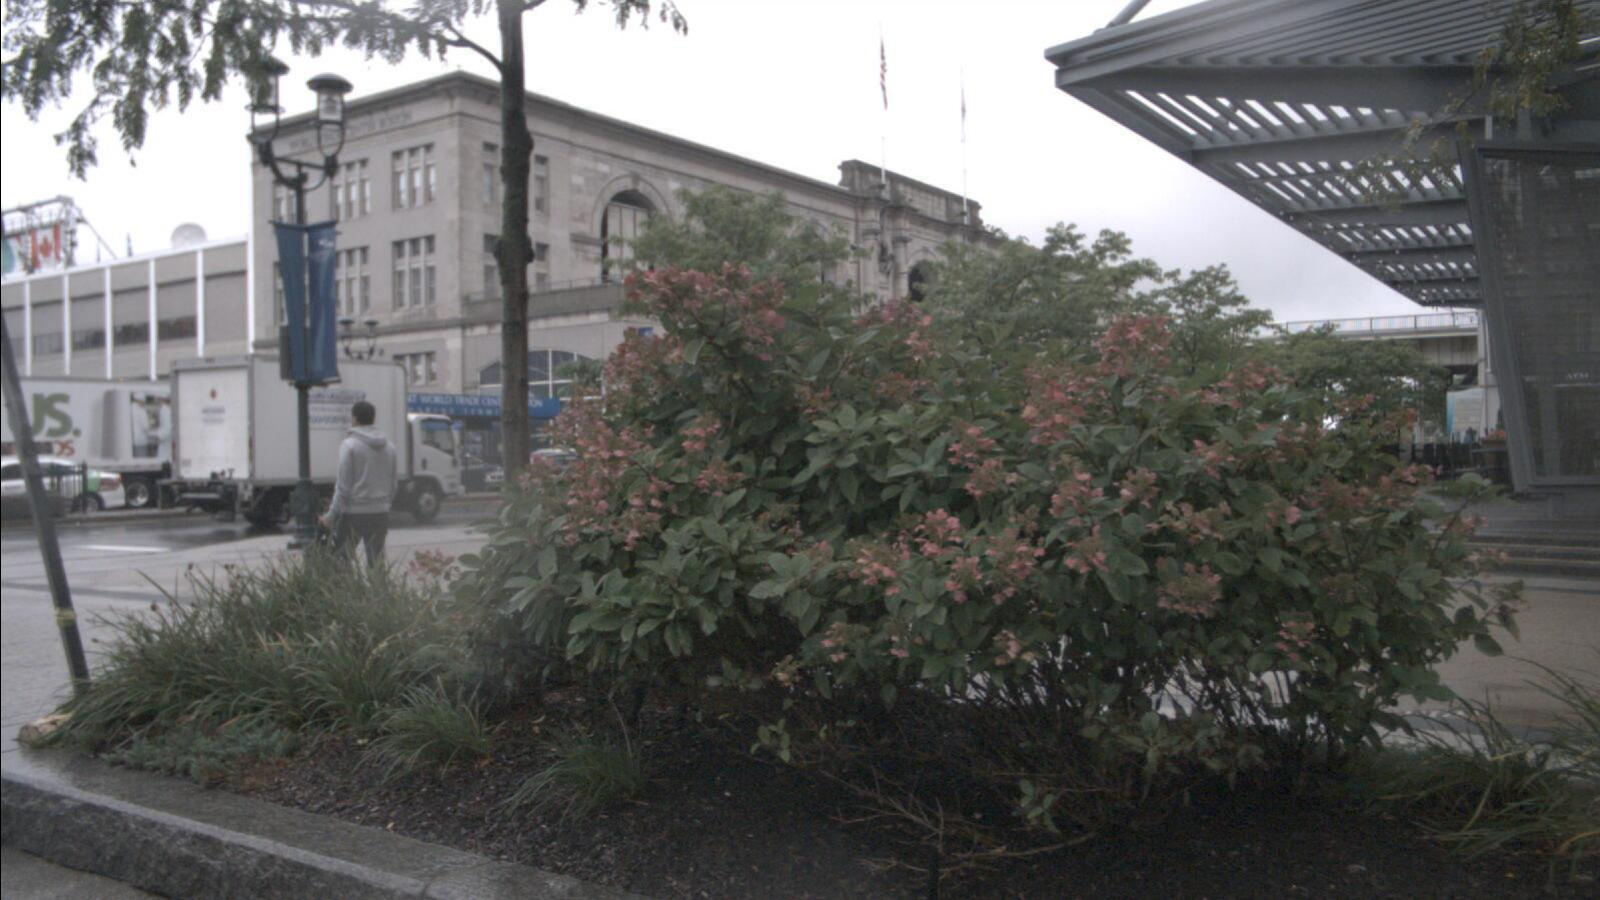human.pedestrian.adult-pedestrian.moving: (316, 401, 400, 626)
